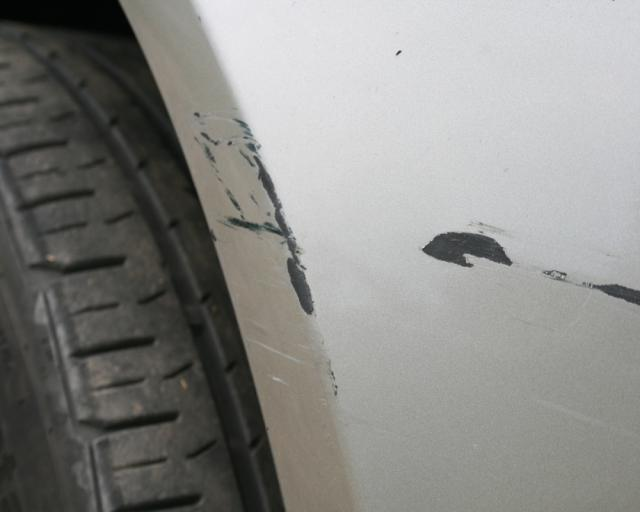scratch: (192, 102, 342, 398), (417, 222, 640, 315)
